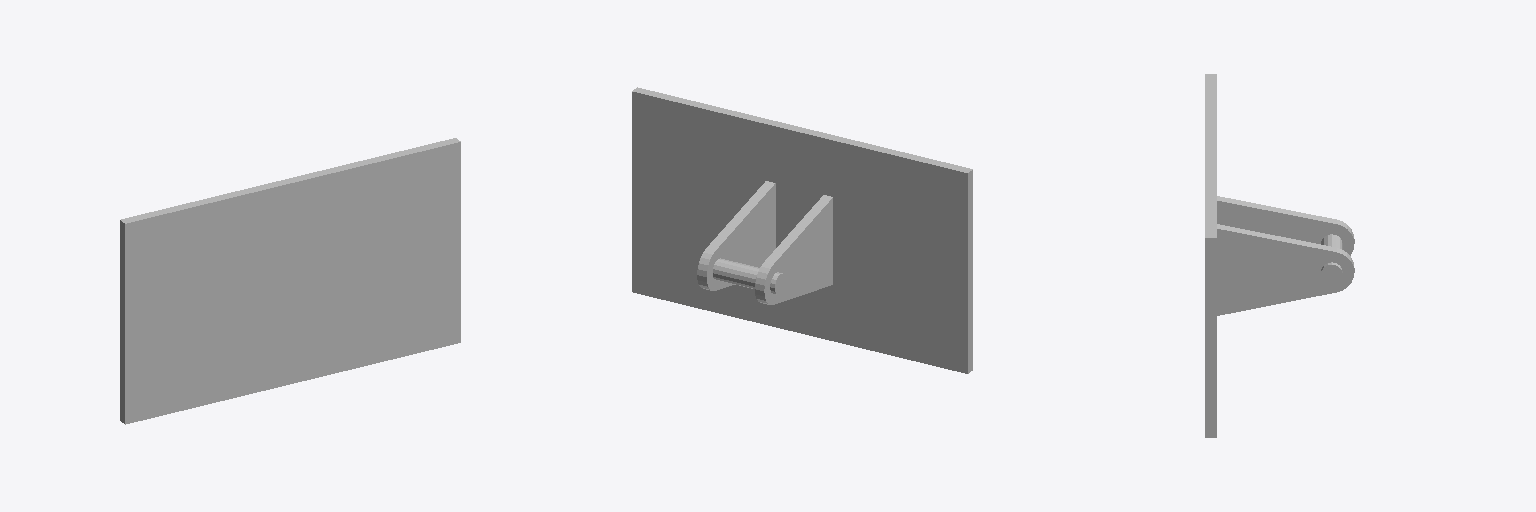
The model's file is OJB_Solid3_3.obj.
The picture shows the model from 3 angles: view 1: azimuth 30°, elevation 25°; view 2: azimuth 150°, elevation 25°; view 3: azimuth 270°, elevation 25°; orthographic projection.
Visible parts, largest first — view 1: Solid1:1; view 2: Solid1:1; view 3: Solid1:1.
Boxes of the visible parts, x1=… form: Solid1:1: x1=120, y1=138, x2=460, y2=424; Solid1:1: x1=632, y1=87, x2=972, y2=373; Solid1:1: x1=1205, y1=74, x2=1354, y2=437.
Bounding box in the file's own units: 3.5 × 2 × 1.34.